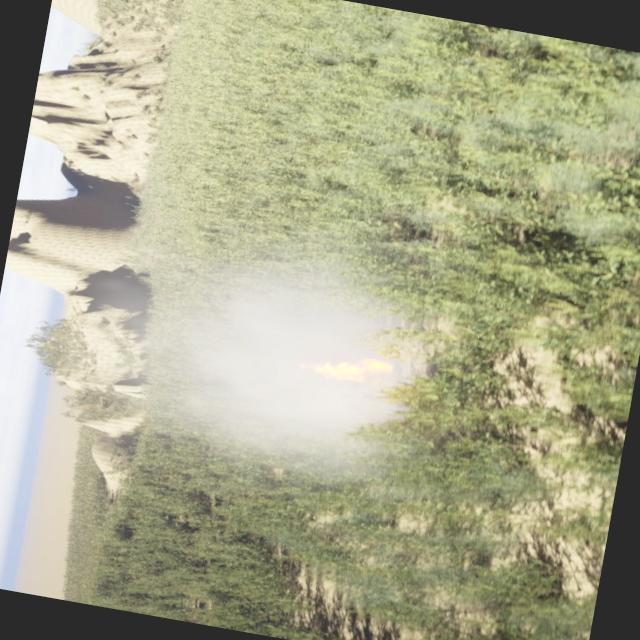fire: (298, 344, 388, 390)
smoke: (104, 212, 446, 496)
